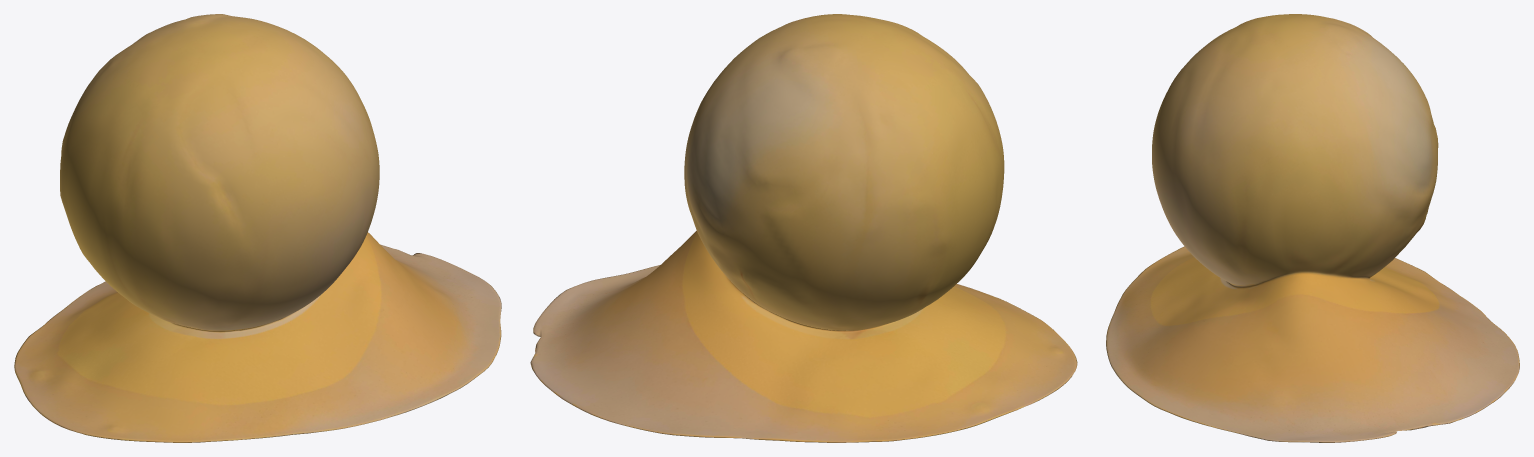
The model's file is sandGrains.fbx.
3 renders of one model, left to right at view 1: azimuth 30°, elevation 25°; view 2: azimuth 150°, elevation 25°; view 3: azimuth 270°, elevation 25°, orthographic. The views are drawn at different scales.
Parts seen in each view (by area): view 1: tripo_node_e1da6ad2; view 2: tripo_node_e1da6ad2; view 3: tripo_node_e1da6ad2.
Part boxes in pixels (bbox=[...]): tripo_node_e1da6ad2: bbox=[14, 14, 501, 442]; tripo_node_e1da6ad2: bbox=[530, 14, 1077, 442]; tripo_node_e1da6ad2: bbox=[1106, 14, 1519, 442].
Bounding box in the file's own units: 99.64 × 67.5 × 84.07.
Materials: 1 (1 with a texture image).
